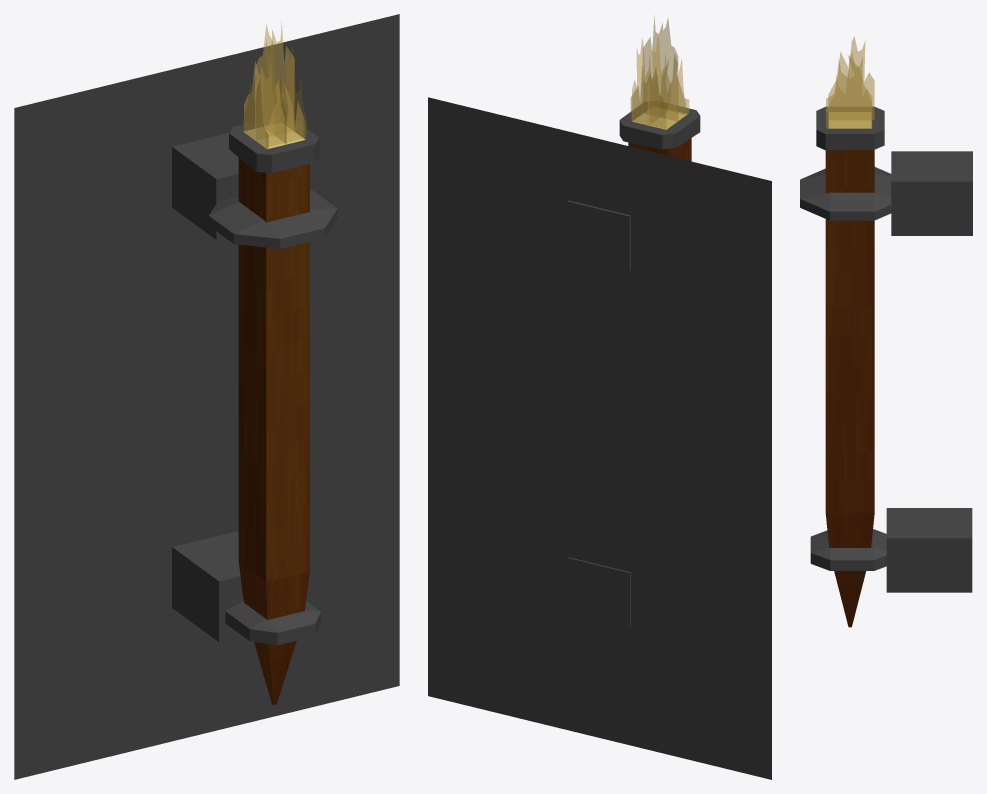
Rendered from Walltorch.glb.
The picture shows the model from 3 angles, left to right: view 1: azimuth 30°, elevation 25°; view 2: azimuth 150°, elevation 25°; view 3: azimuth 270°, elevation 25°; orthographic projection. The views are drawn at different scales.
Visible parts, largest first — view 1: Plane.001, Cube.004, Cube.001, Cube, Cube.003, Plane.004, Cube.002, Plane.014, Plane.005, Plane.002, Plane.003; view 2: Plane.001, Cube, Cube.001, Cube.004, Plane.004, Plane.015, Plane.005, Plane.003, Plane.002; view 3: Cube.004, Cube.001, Cube, Cube.003, Plane.005, Cube.002, Plane.002, Plane.003.
Boxes of the visible parts, x1,y1,x2,y2 form: Plane.001: [14, 14, 399, 779]; Cube.004: [229, 118, 319, 704]; Cube.001: [172, 531, 243, 642]; Cube: [172, 133, 238, 239]; Cube.003: [208, 190, 337, 248]; Plane.004: [255, 20, 294, 140]; Cube.002: [225, 598, 320, 645]; Plane.014: [266, 79, 305, 147]; Plane.005: [262, 42, 286, 144]; Plane.002: [281, 45, 306, 140]; Plane.003: [243, 77, 268, 149]; Plane.001: [428, 97, 771, 779]; Cube: [567, 200, 630, 270]; Cube.001: [567, 557, 630, 627]; Cube.004: [619, 103, 700, 161]; Plane.004: [643, 15, 678, 121]; Plane.015: [630, 66, 666, 129]; Plane.005: [647, 35, 670, 125]; Plane.003: [666, 59, 689, 129]; Plane.002: [632, 39, 651, 121]; Cube.004: [816, 106, 884, 627]; Cube.001: [886, 508, 972, 592]; Cube: [891, 151, 972, 235]; Cube.003: [800, 167, 891, 220]; Plane.005: [828, 36, 874, 120]; Cube.002: [810, 529, 886, 570]; Plane.002: [826, 52, 872, 128]; Plane.003: [826, 52, 865, 111].
Bounding box in the file's own units: 0.2016 × 0.3805 × 0.0879.
Materials: 4 (1 with a texture image).
